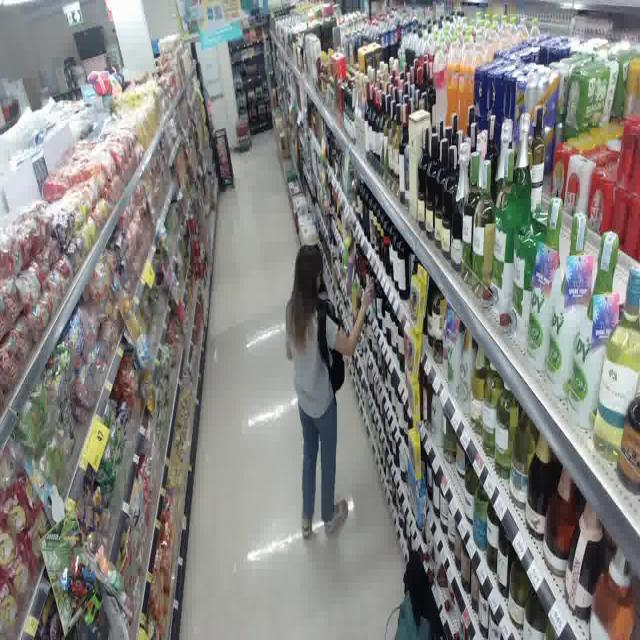pickup: (273, 222, 385, 546)
